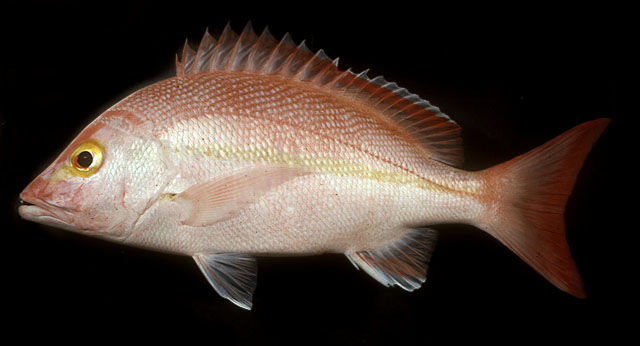fish: (18, 24, 614, 312)
